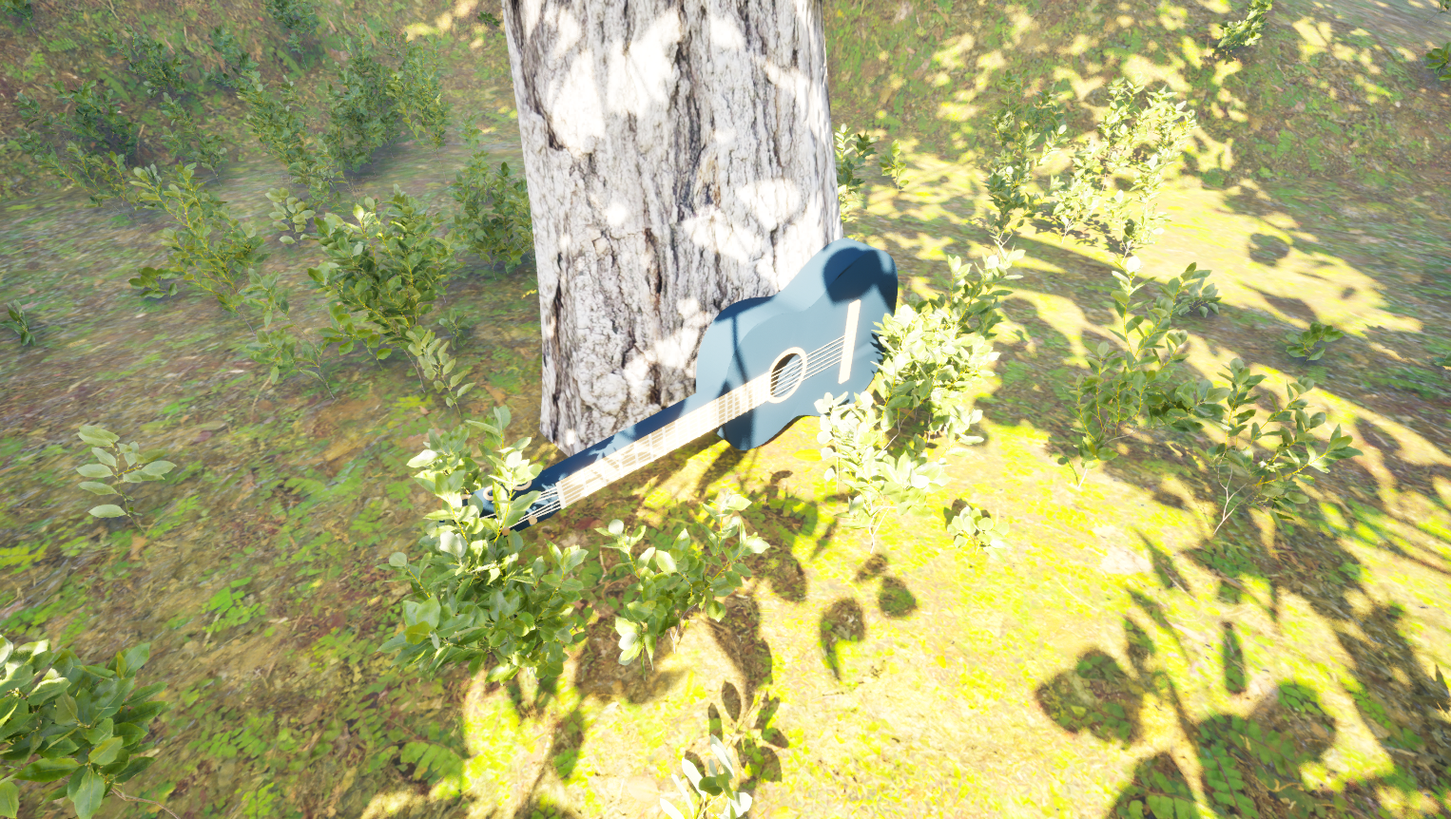Guitar: (383, 224, 913, 638)
